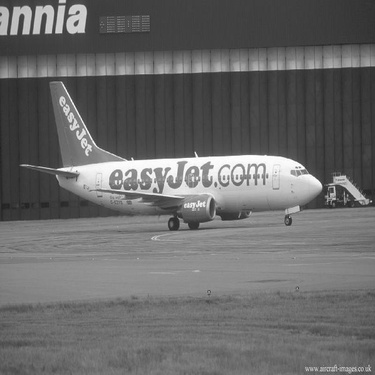airplane: (13, 52, 337, 245)
